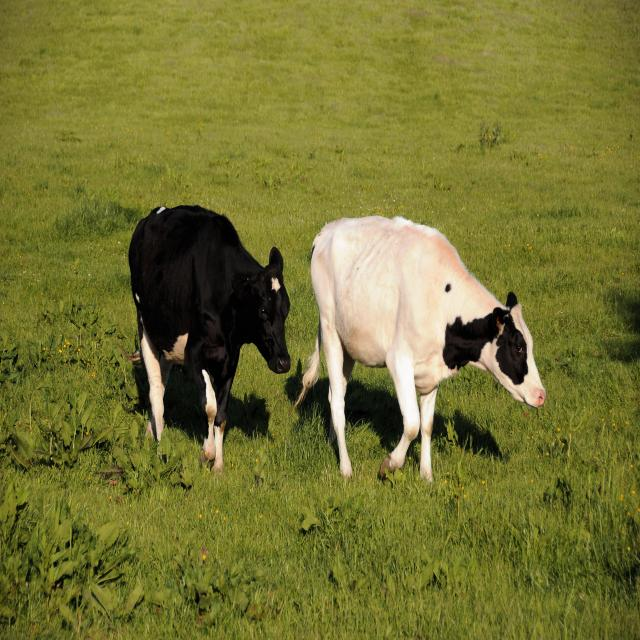cow: (296, 216, 546, 480), (129, 205, 290, 472)
